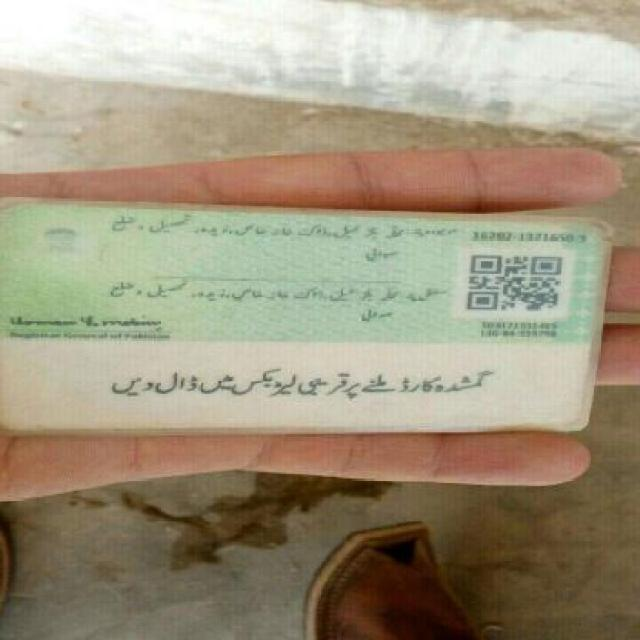Back: (8, 197, 614, 440)
